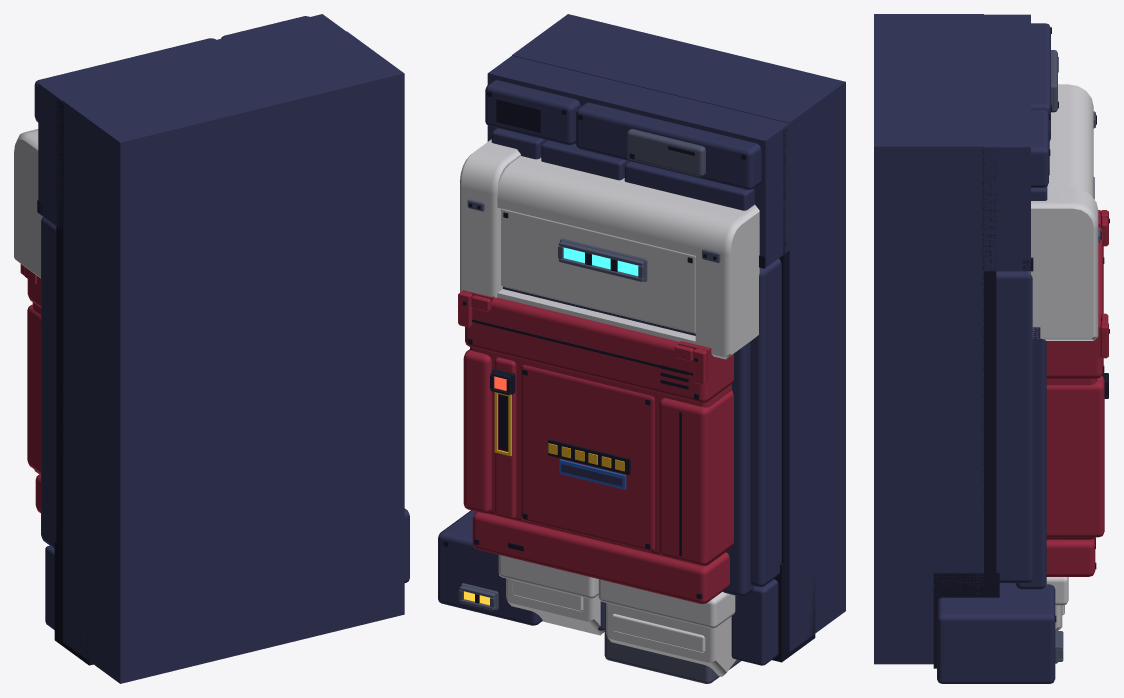
File: hull.bay.red_hatch.bumper.none.plate.w2.000.s6.k-2.4.glb
The picture shows the model from 3 angles, left to right: view 1: azimuth 30°, elevation 25°; view 2: azimuth 150°, elevation 25°; view 3: azimuth 270°, elevation 25°; orthographic projection. The views are drawn at different scales.
Visible parts, largest first — view 1: hull.bay.red_hatch.bumper.none.plate.w2.000.s6.k-2.4; view 2: hull.bay.red_hatch.bumper.none.plate.w2.000.s6.k-2.4; view 3: hull.bay.red_hatch.bumper.none.plate.w2.000.s6.k-2.4.
Part boxes in pixels (<box>): hull.bay.red_hatch.bumper.none.plate.w2.000.s6.k-2.4: <box>14,14,409,683</box>; hull.bay.red_hatch.bumper.none.plate.w2.000.s6.k-2.4: <box>438,14,845,683</box>; hull.bay.red_hatch.bumper.none.plate.w2.000.s6.k-2.4: <box>874,14,1109,683</box>.
Size of the model in its own units: 2.29 by 3.77 by 1.5.
